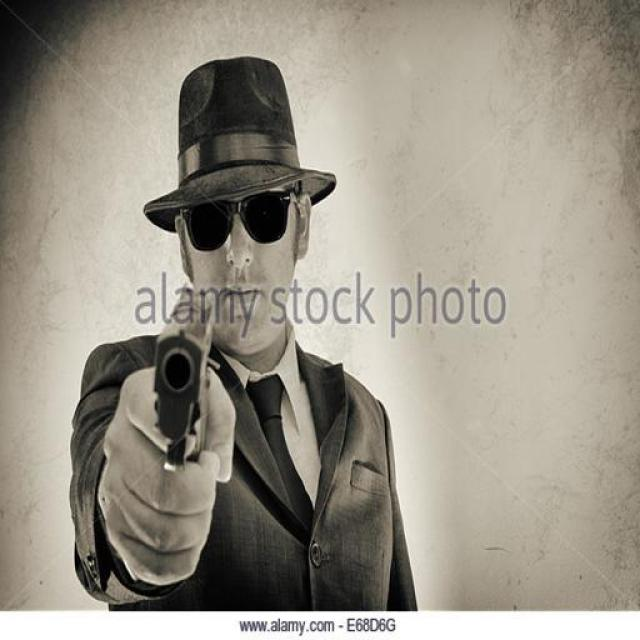pistol: (159, 288, 215, 469)
